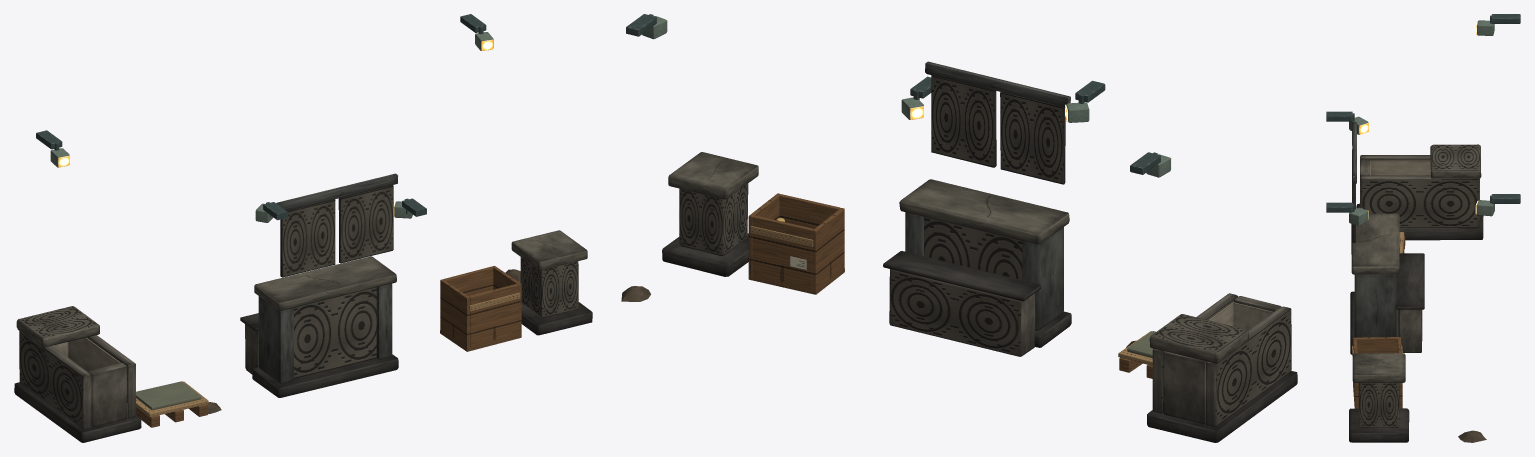
The model's file is THStage_Hall_Furniture.fbx.
3 renders of one model, left to right at view 1: azimuth 30°, elevation 25°; view 2: azimuth 150°, elevation 25°; view 3: azimuth 270°, elevation 25°, orthographic. The views are drawn at different scales.
Parts seen in each view (by area): view 1: THStage_Hall_Furniture; view 2: THStage_Hall_Furniture; view 3: THStage_Hall_Furniture.
Boxes of the visible parts, x1,y1,x2,y2 form: THStage_Hall_Furniture: (14, 14, 592, 442); THStage_Hall_Furniture: (621, 14, 1297, 442); THStage_Hall_Furniture: (1326, 14, 1520, 442).
Bounding box in the file's own units: 4.54 × 2.13 × 1.62.
